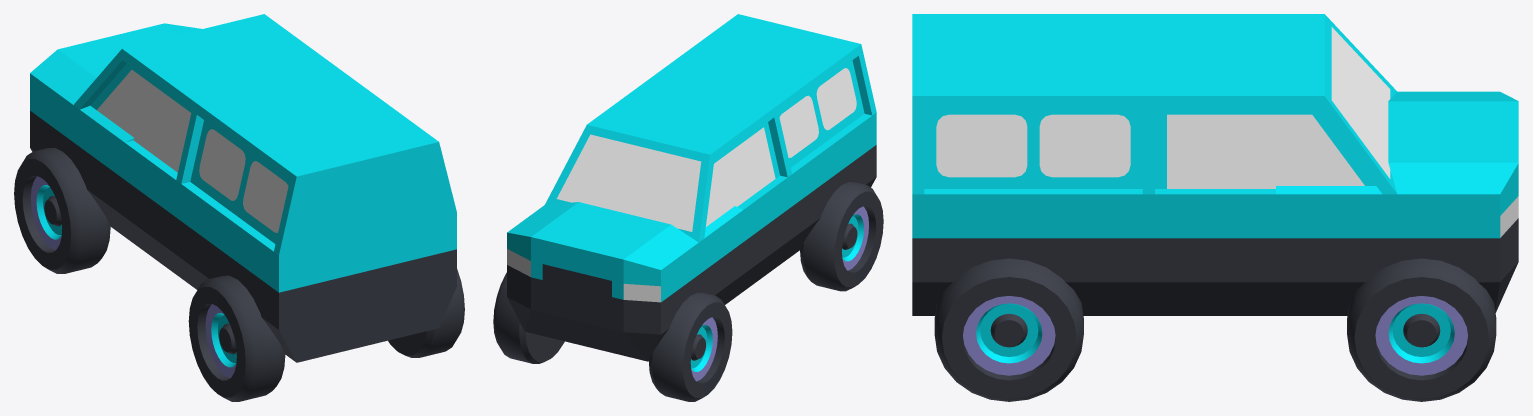
Rendered from obstacle_jeep.glb.
3 views of the same model, side by side, from view 1: azimuth 30°, elevation 25°; view 2: azimuth 150°, elevation 25°; view 3: azimuth 270°, elevation 25° (orthographic). The views are drawn at different scales.
Parts seen in each view (by area): view 1: mergedBlocks(Clone); view 2: mergedBlocks(Clone); view 3: mergedBlocks(Clone).
Part boxes in pixels (x1,y1,x2,y2): mergedBlocks(Clone): (14, 14, 464, 401); mergedBlocks(Clone): (493, 14, 883, 401); mergedBlocks(Clone): (912, 14, 1518, 401).
Size of the model in its own units: 1.23 by 1.31 by 2.5.
Materials: 1 (1 with a texture image).
